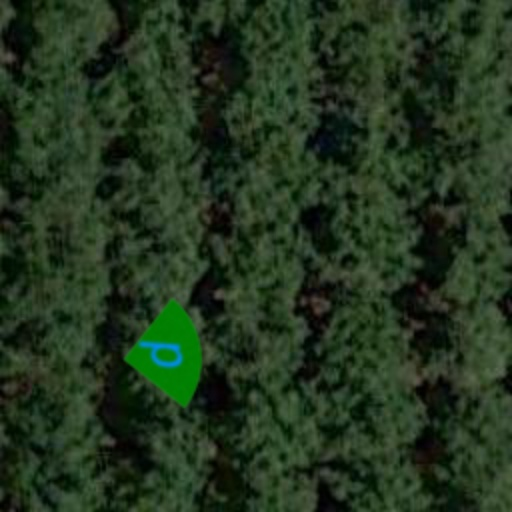quarter_circle: (112, 296, 228, 412)
